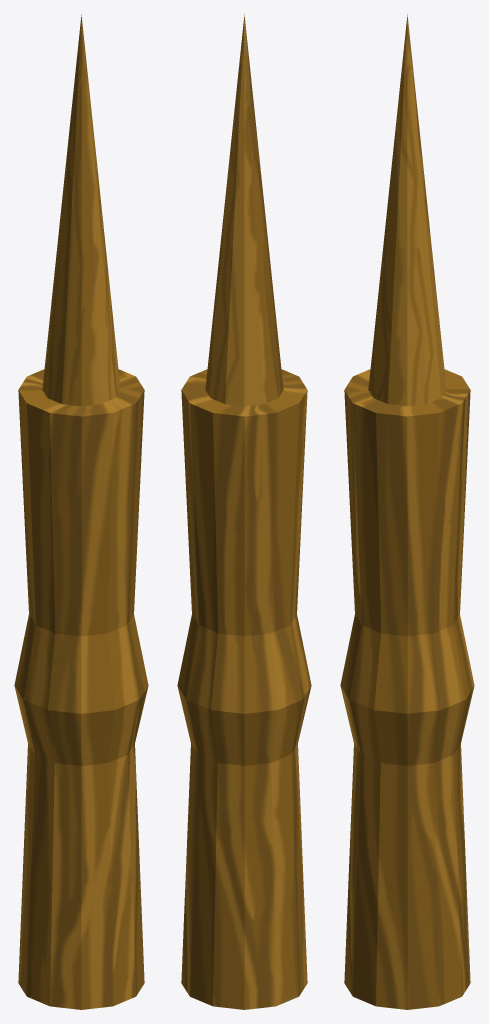
Rendered from shiv.fbx.
The picture shows the model from 3 angles, left to right: view 1: azimuth 90°, elevation 25°; view 2: azimuth 210°, elevation 25°; view 3: azimuth 270°, elevation 25°; orthographic projection.
Parts seen in each view (by area): view 1: shiv; view 2: shiv; view 3: shiv.
Part boxes in pixels (x1=…): shiv: x1=14, y1=14, x2=148, y2=1009; shiv: x1=177, y1=14, x2=311, y2=1009; shiv: x1=340, y1=14, x2=474, y2=1009.
Bounding box in the file's own units: 0.6176 × 4.92 × 0.6176.
